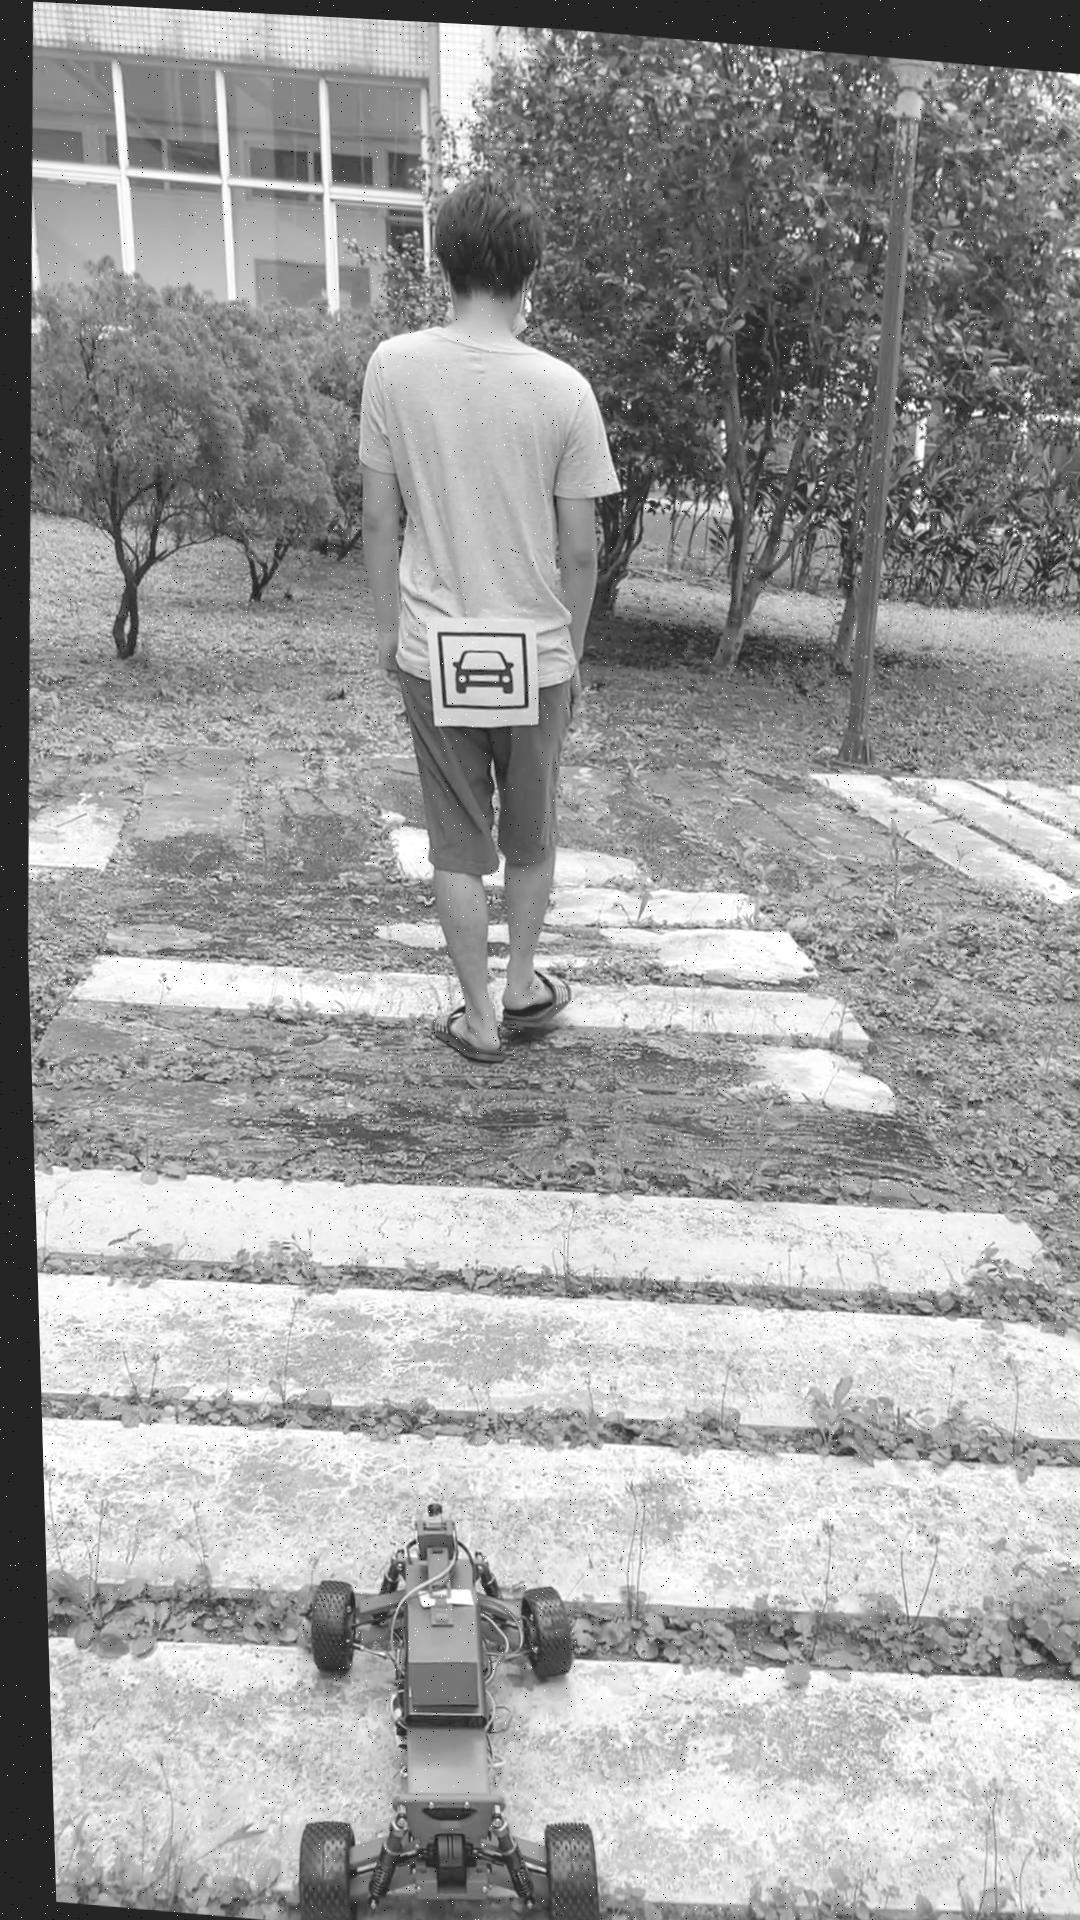car_img: (429, 618, 529, 711)
